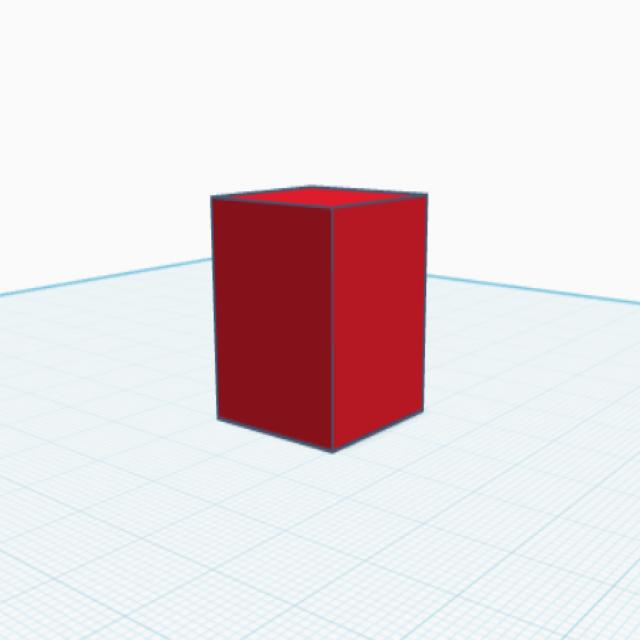cube: (202, 174, 432, 461)
